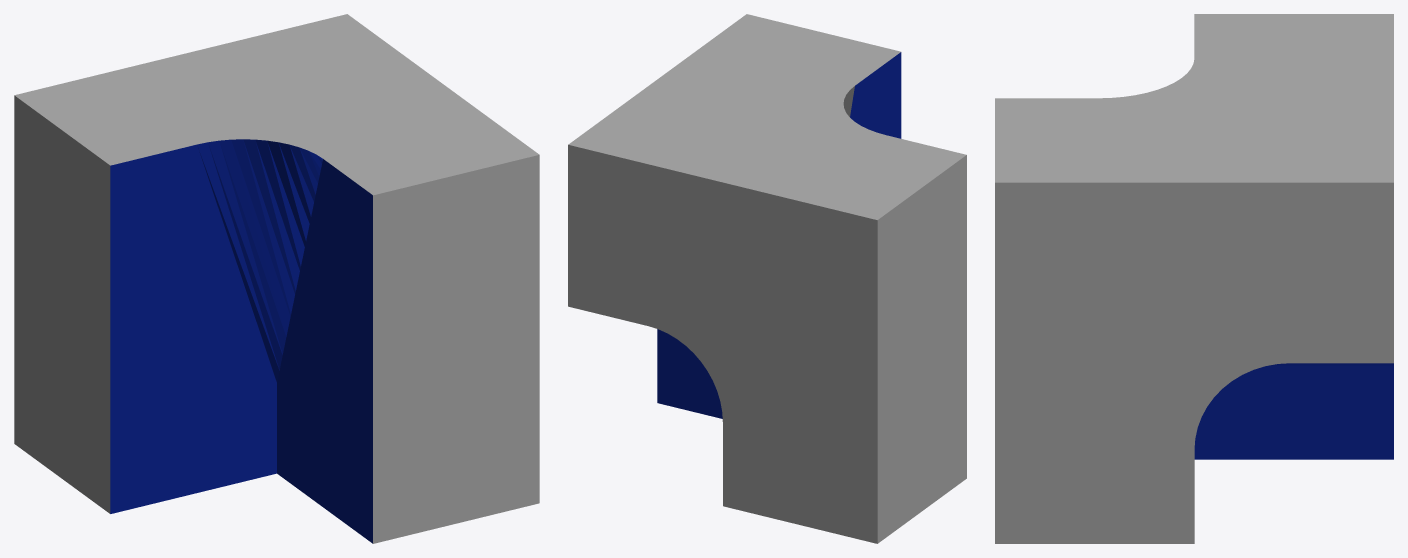
File: case_117.fbx
3 views of the same model, side by side, from view 1: azimuth 30°, elevation 25°; view 2: azimuth 150°, elevation 25°; view 3: azimuth 270°, elevation 25° (orthographic). The views are drawn at different scales.
Visible parts, largest first — view 1: case_117; view 2: case_117; view 3: case_117.
Boxes of the visible parts, bbox=[...] form: case_117: bbox=[14, 14, 539, 543]; case_117: bbox=[568, 14, 966, 543]; case_117: bbox=[995, 14, 1393, 543].
Size of the model in its own units: 1 by 1 by 1.
